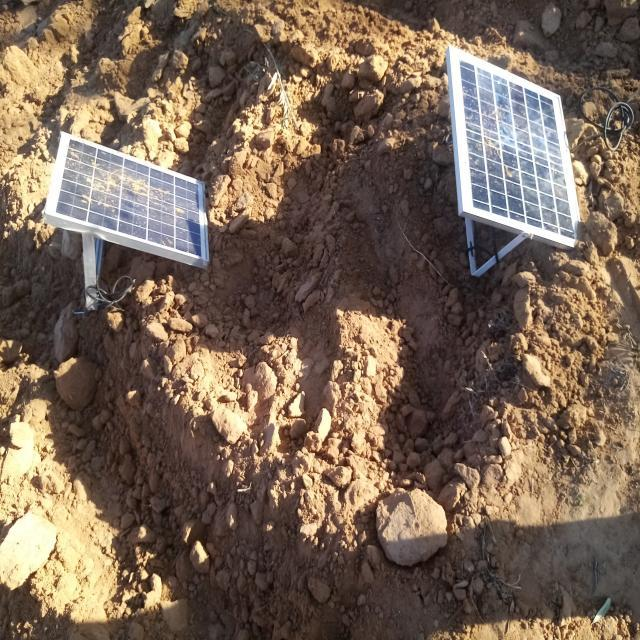faulty: (450, 49, 574, 242), (46, 132, 208, 261)
